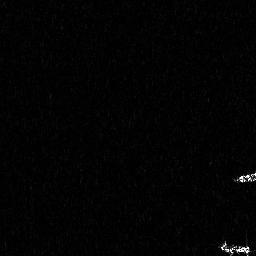ship: (215, 236, 254, 256)
